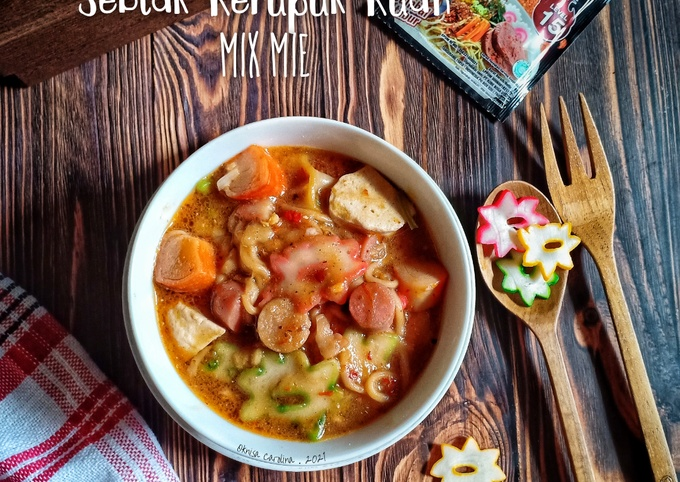seblak: (161, 148, 451, 443)
